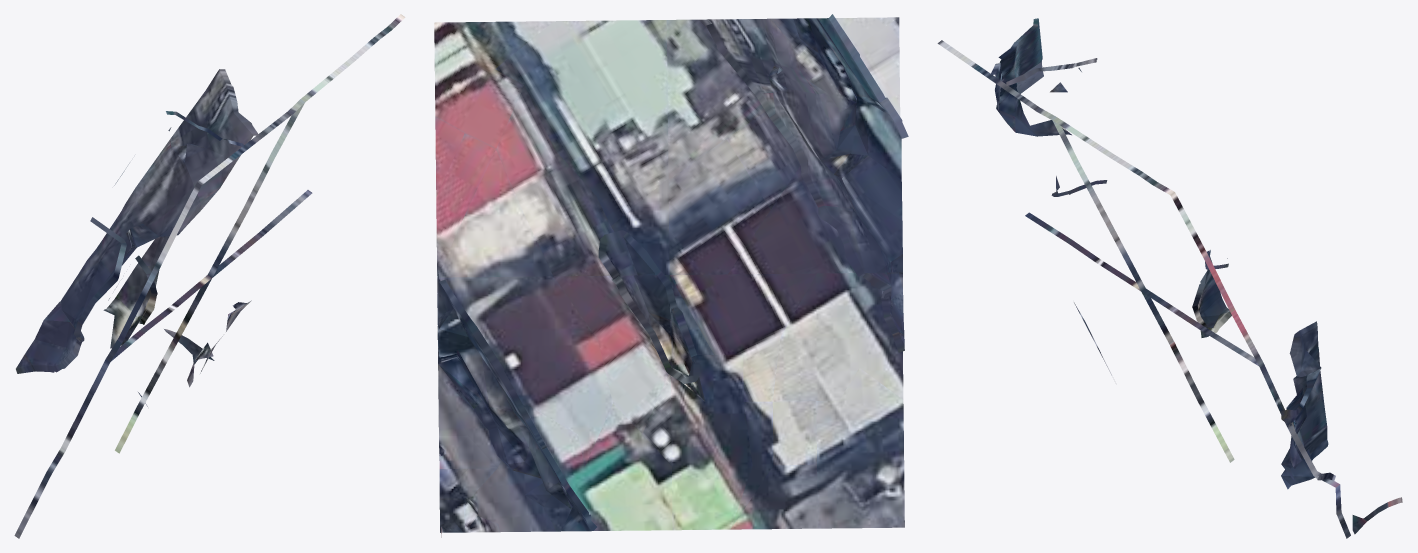
The picture shows the model from 3 angles, left to right: view 1: azimuth 30°, elevation 25°; view 2: azimuth 150°, elevation 25°; view 3: azimuth 270°, elevation 25°; orthographic projection. The views are drawn at different scales.
Size of the model in its own units: 38.03 by 37.5 by 37.21.
1 material, 1 textured.
